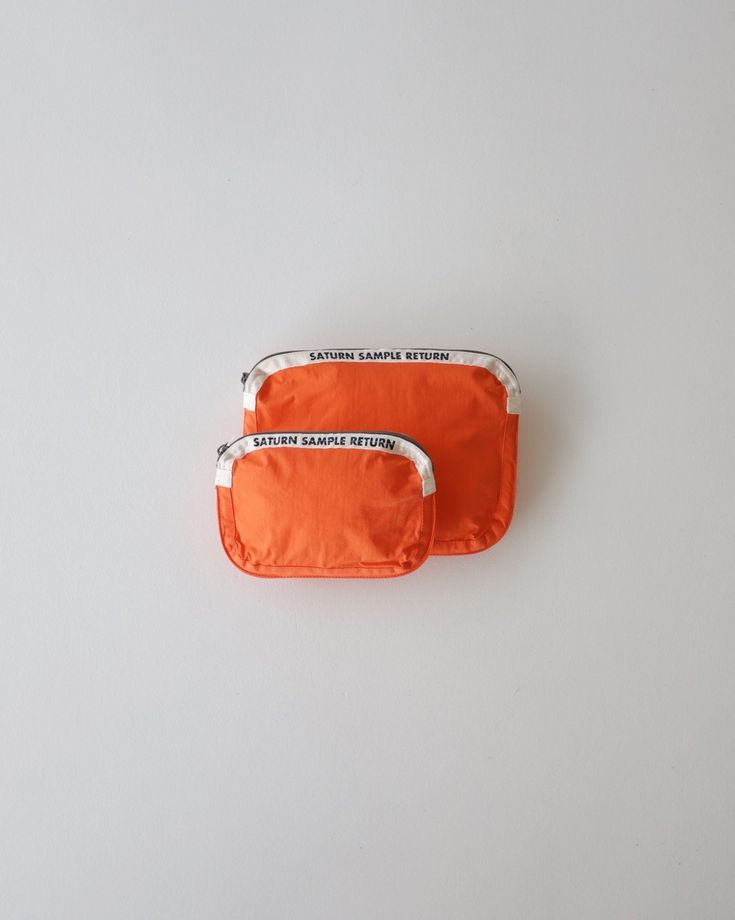nylon: (214, 345, 524, 581)
